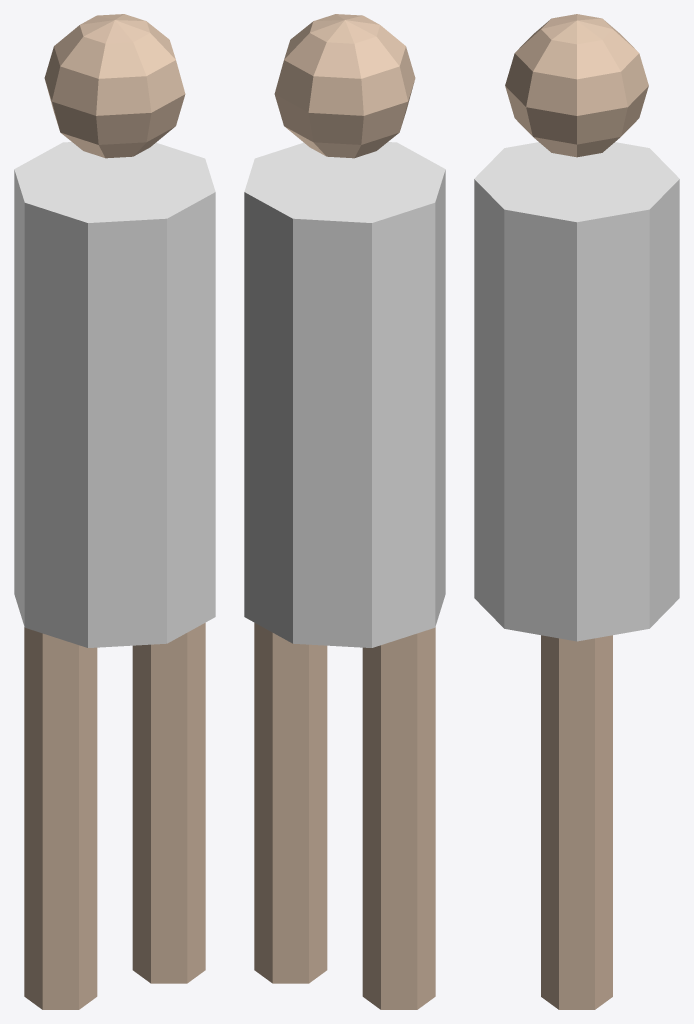
Rendered from away.glb.
3 renders of one model, left to right at view 1: azimuth 30°, elevation 25°; view 2: azimuth 150°, elevation 25°; view 3: azimuth 270°, elevation 25°, orthographic.
Visible parts, largest first — view 1: Cylinder, Cylinder.001, Cylinder.002, Sphere; view 2: Cylinder, Cylinder.001, Cylinder.002, Sphere; view 3: Cylinder, Cylinder.002, Sphere.
Part boxes in pixels (bbox=[...]): Cylinder: bbox=[14, 142, 215, 647]; Cylinder.001: bbox=[24, 627, 97, 1009]; Cylinder.002: bbox=[132, 622, 205, 983]; Sphere: bbox=[44, 14, 185, 158]; Cylinder: bbox=[244, 142, 445, 647]; Cylinder.001: bbox=[362, 627, 435, 1009]; Cylinder.002: bbox=[254, 622, 327, 983]; Sphere: bbox=[274, 14, 415, 158]; Cylinder: bbox=[474, 142, 679, 641]; Cylinder.002: bbox=[541, 635, 612, 1009]; Sphere: bbox=[505, 14, 648, 157].
Size of the model in its own units: 0.4 by 2.04 by 0.4.
